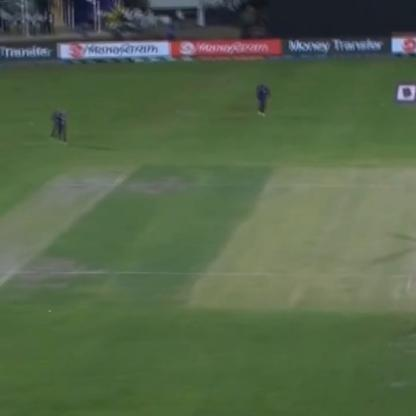ball: (46, 307, 54, 314)
